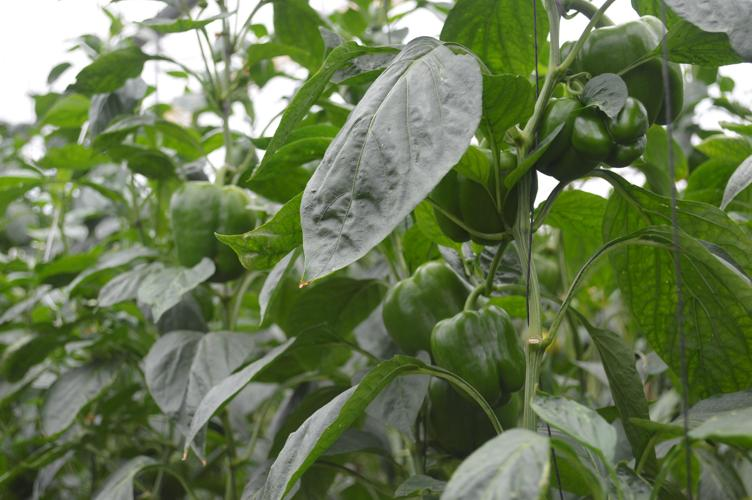BellPepper: (563, 19, 693, 131), (541, 88, 655, 183), (432, 300, 528, 411), (160, 177, 254, 282), (383, 265, 471, 340)
